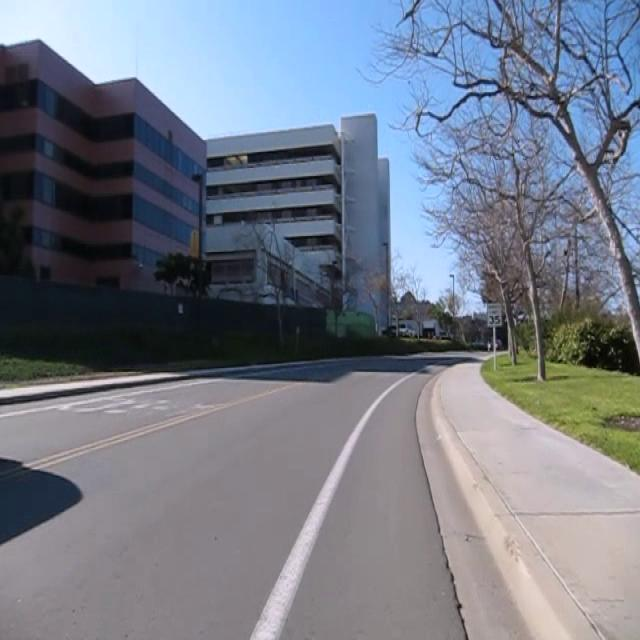speedLimit35: (486, 300, 503, 328)
